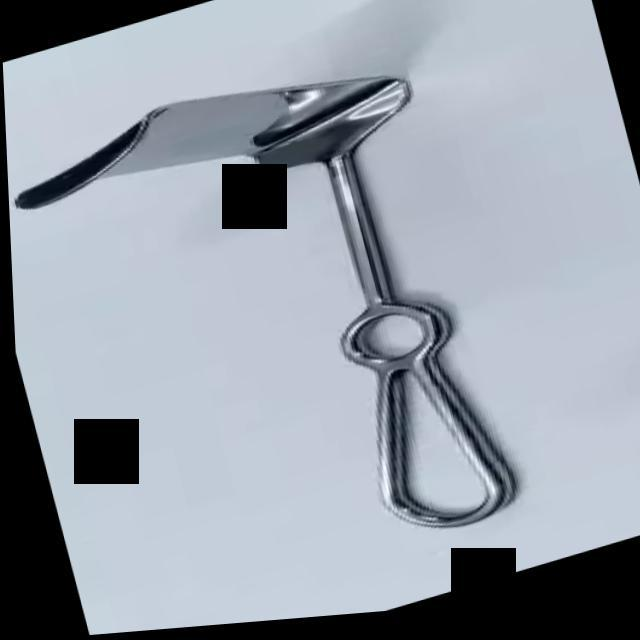Morris Retractor: (1, 12, 554, 640)
